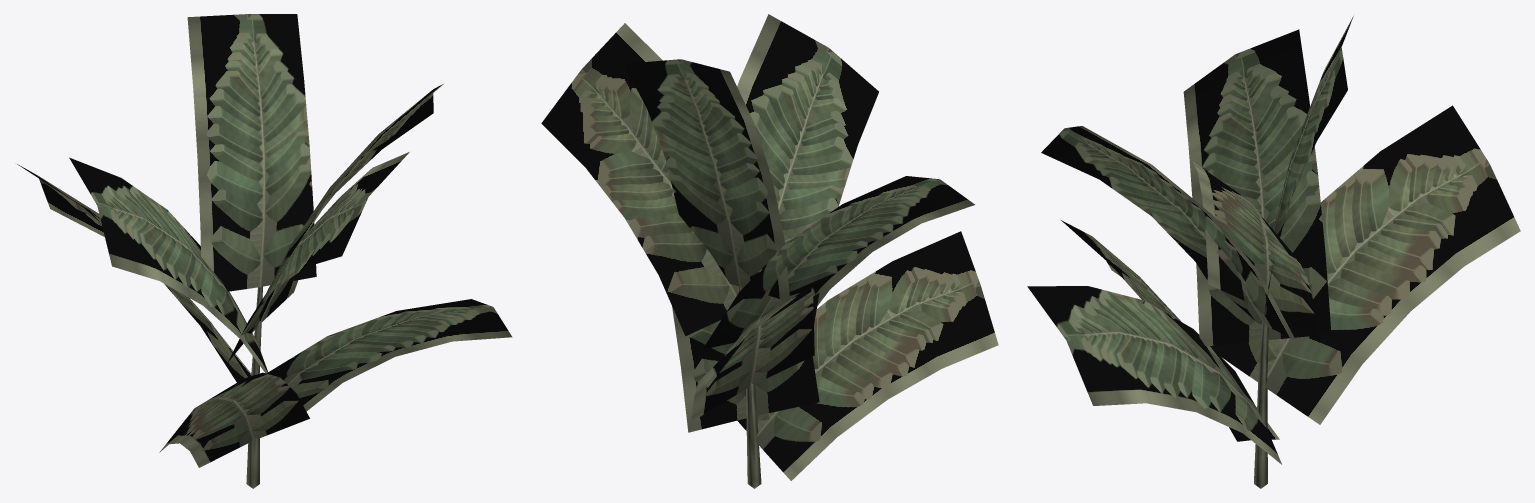
File: fern_clump.obj
3 renders of one model, left to right at view 1: azimuth 30°, elevation 25°; view 2: azimuth 150°, elevation 25°; view 3: azimuth 270°, elevation 25°, orthographic. The views are drawn at different scales.
Parts seen in each view (by area): view 1: Top_Branch, Upper_Left_Branch, Low_Back_Branch, Low_Left_Branch, Upper_Back_Branch, Low_Front_Branch, Upper_Right_Branch, Main_Stem; view 2: Low_Left_Branch, Upper_Right_Branch, Top_Branch, Upper_Back_Branch, Upper_Left_Branch, Low_Front_Branch, Low_Back_Branch, Main_Stem; view 3: Low_Front_Branch, Upper_Left_Branch, Low_Back_Branch, Upper_Back_Branch, Upper_Right_Branch, Top_Branch, Low_Left_Branch, Main_Stem.
Boxes of the visible parts, x1=… form: Top_Branch: x1=187, y1=14, x2=316, y2=291; Upper_Left_Branch: x1=69, y1=157, x2=267, y2=373; Low_Back_Branch: x1=266, y1=299, x2=512, y2=411; Low_Left_Branch: x1=159, y1=372, x2=309, y2=467; Upper_Back_Branch: x1=228, y1=152, x2=409, y2=361; Low_Front_Branch: x1=17, y1=164, x2=251, y2=382; Upper_Right_Branch: x1=259, y1=84, x2=443, y2=323; Main_Stem: x1=246, y1=286, x2=262, y2=488; Low_Left_Branch: x1=737, y1=231, x2=998, y2=480; Upper_Right_Branch: x1=541, y1=23, x2=743, y2=336; Top_Branch: x1=624, y1=59, x2=789, y2=301; Upper_Back_Branch: x1=720, y1=14, x2=878, y2=323; Upper_Left_Branch: x1=702, y1=176, x2=974, y2=349; Low_Front_Branch: x1=691, y1=285, x2=814, y2=421; Low_Back_Branch: x1=672, y1=306, x2=819, y2=432; Main_Stem: x1=737, y1=286, x2=761, y2=488; Low_Front_Branch: x1=1211, y1=105, x2=1520, y2=424; Upper_Left_Branch: x1=1183, y1=29, x2=1331, y2=346; Low_Back_Branch: x1=1027, y1=286, x2=1281, y2=464; Upper_Back_Branch: x1=1041, y1=126, x2=1295, y2=339; Upper_Right_Branch: x1=1192, y1=161, x2=1320, y2=340; Top_Branch: x1=1264, y1=16, x2=1353, y2=315; Low_Left_Branch: x1=1061, y1=220, x2=1279, y2=441; Main_Stem: x1=1254, y1=322, x2=1268, y2=488.
Size of the model in its own units: 52.29 by 59.2 by 57.47.
1 material, 1 textured.
